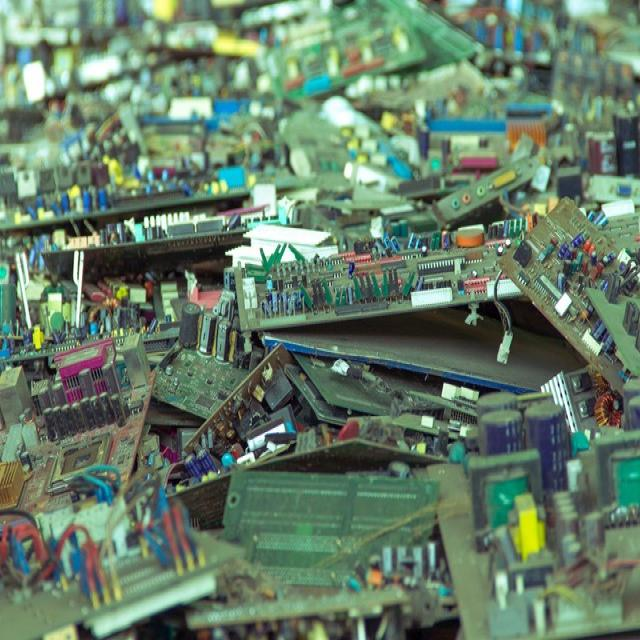hazard: (11, 22, 639, 640)
